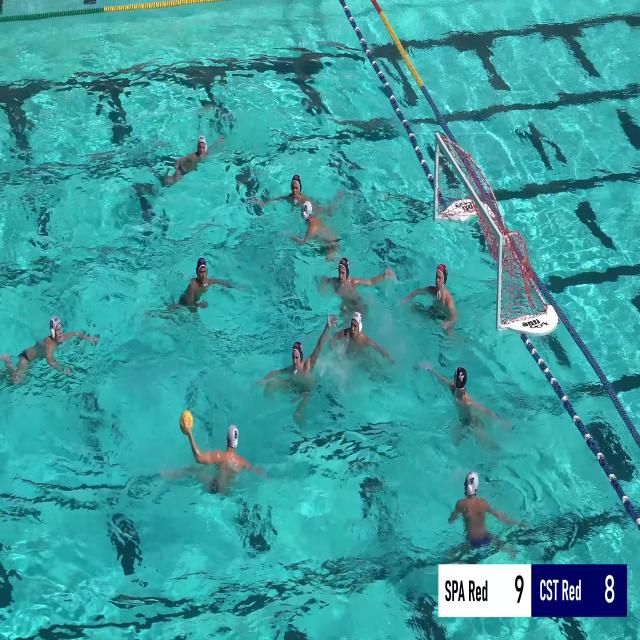ball: (180, 410, 193, 431)
